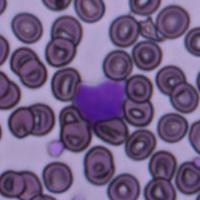M: (72, 77, 127, 124)
